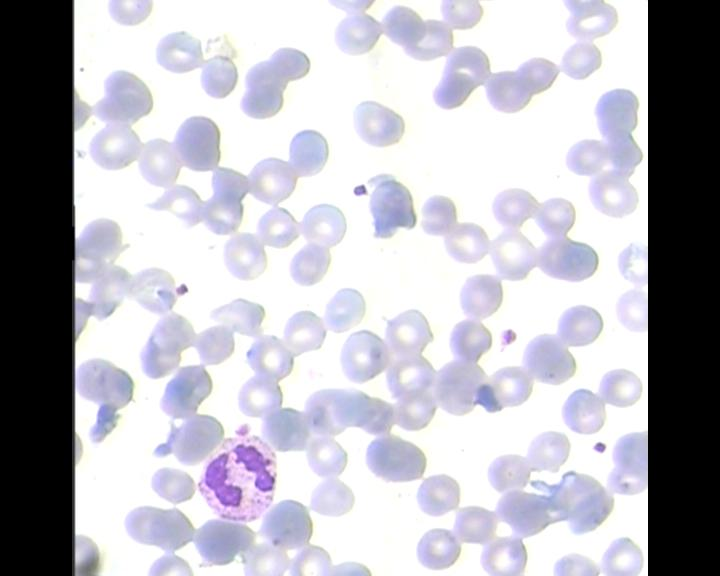neut: (200, 424, 283, 523)
